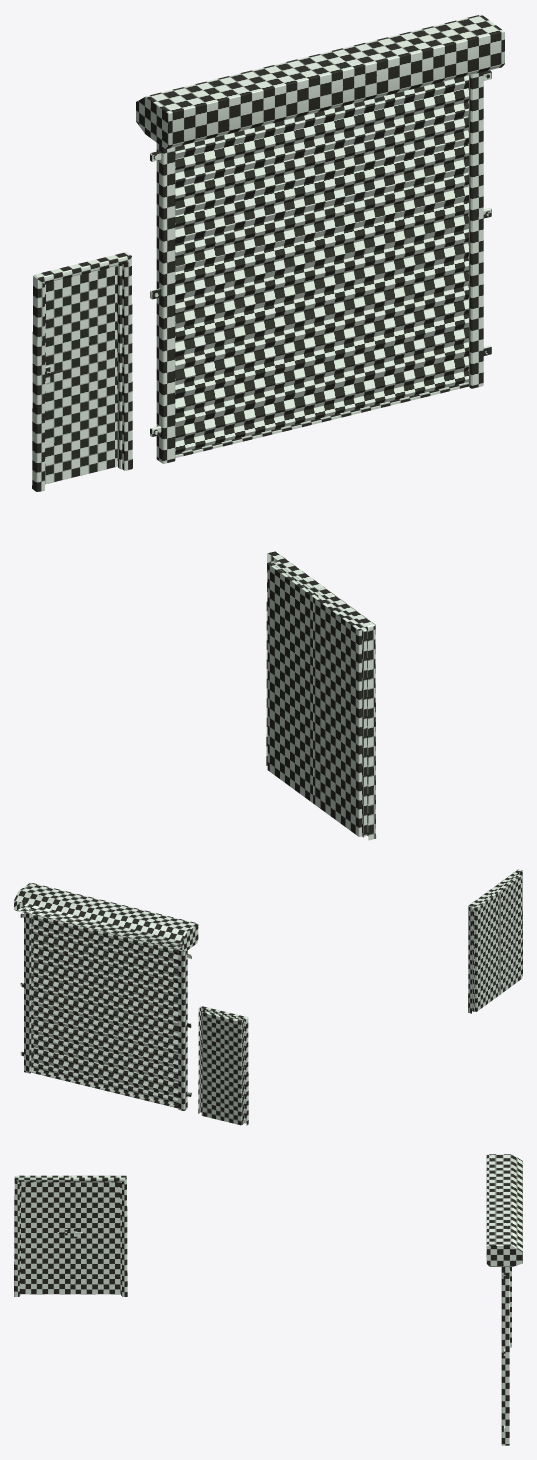
Rendered from Warehouse_Doors_v2.FBX.
The picture shows the model from 3 angles, top to bottom: view 1: azimuth 30°, elevation 25°; view 2: azimuth 150°, elevation 25°; view 3: azimuth 270°, elevation 25°; orthographic projection. The views are drawn at different scales.
Visible parts, largest first — view 1: Warehouse_Doors_v1; view 2: Warehouse_Doors_v1; view 3: Warehouse_Doors_v1.
Part boxes in pixels (x1,y1,x2,y2): Warehouse_Doors_v1: (32, 14, 504, 840); Warehouse_Doors_v1: (14, 869, 522, 1125); Warehouse_Doors_v1: (14, 1154, 522, 1445).
Bounding box in the file's own units: 619 × 378 × 864.
Materials: 1 (1 with a texture image).
